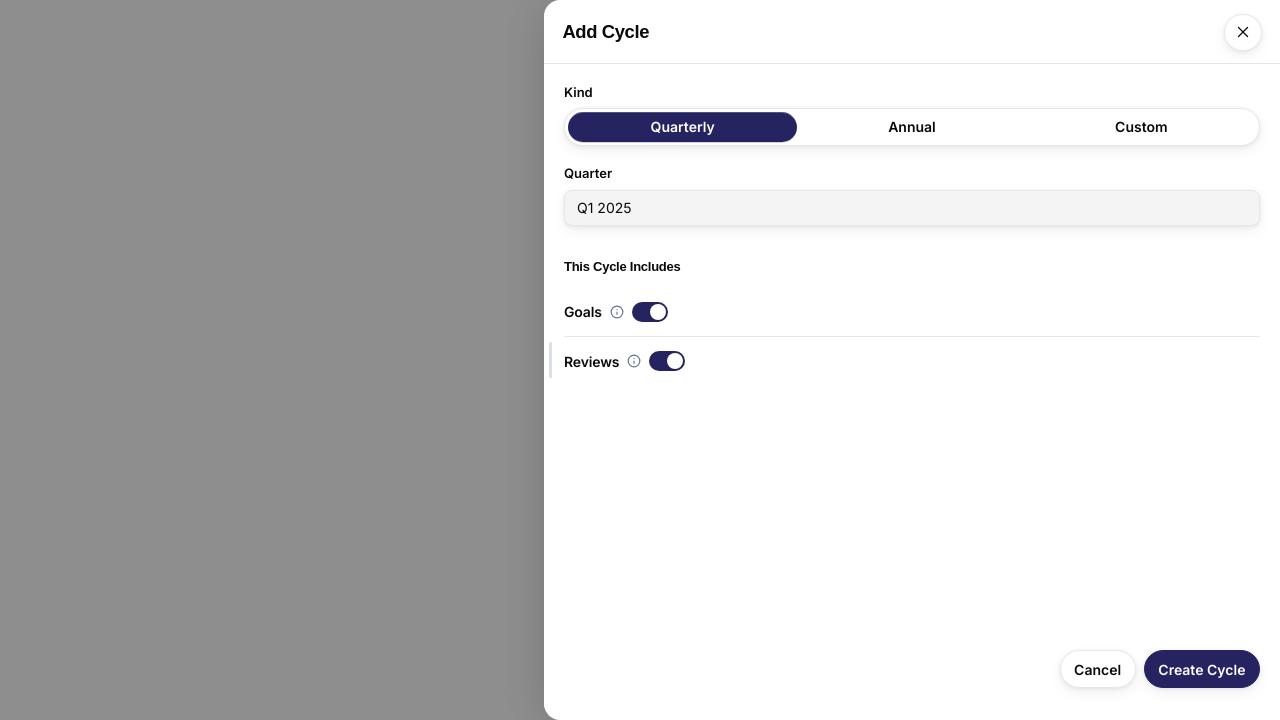
Test: AddReviewCycleModal › does not create a custom cycle when the end is before the start
This screenshot has width=1280, height=720.
Step 1. Click the button "Custom" → x=1141, y=127, box left=1027, top=112, right=1256, bottom=142
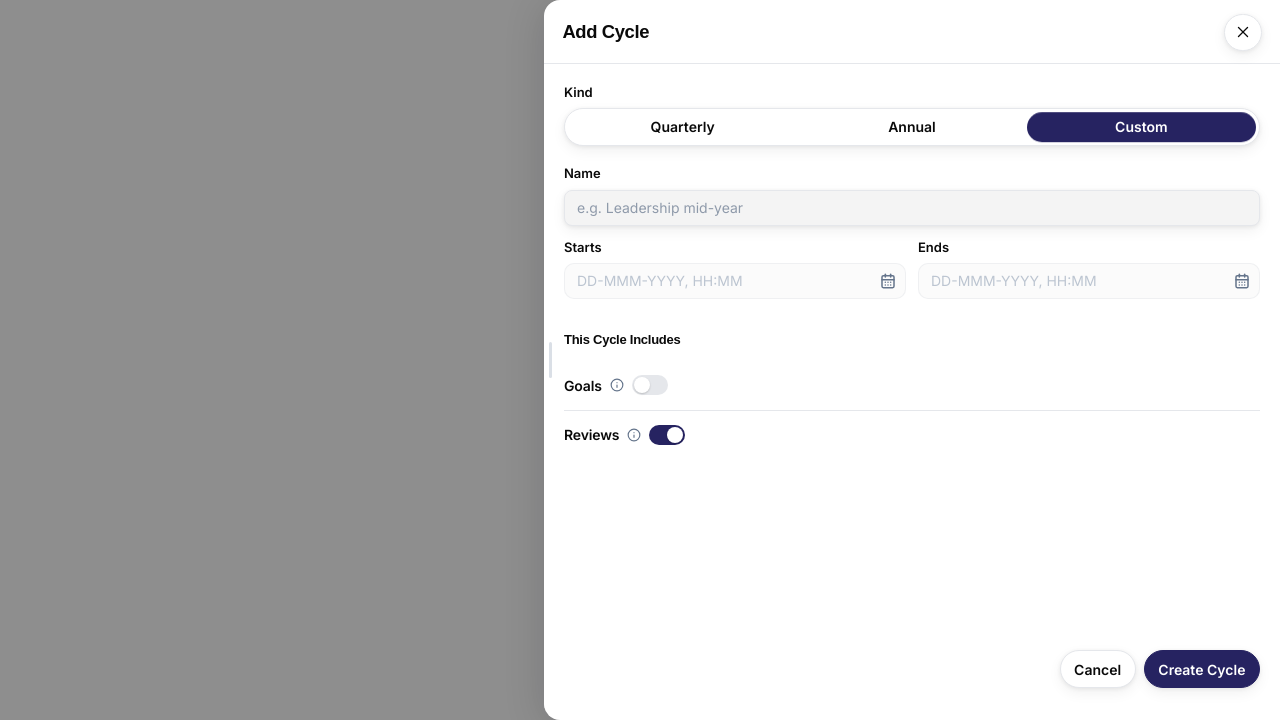
Step 2. Type "2026-08-01T09:00" into the field labelled "Starts" → x=735, y=281, box left=564, top=263, right=906, bottom=299
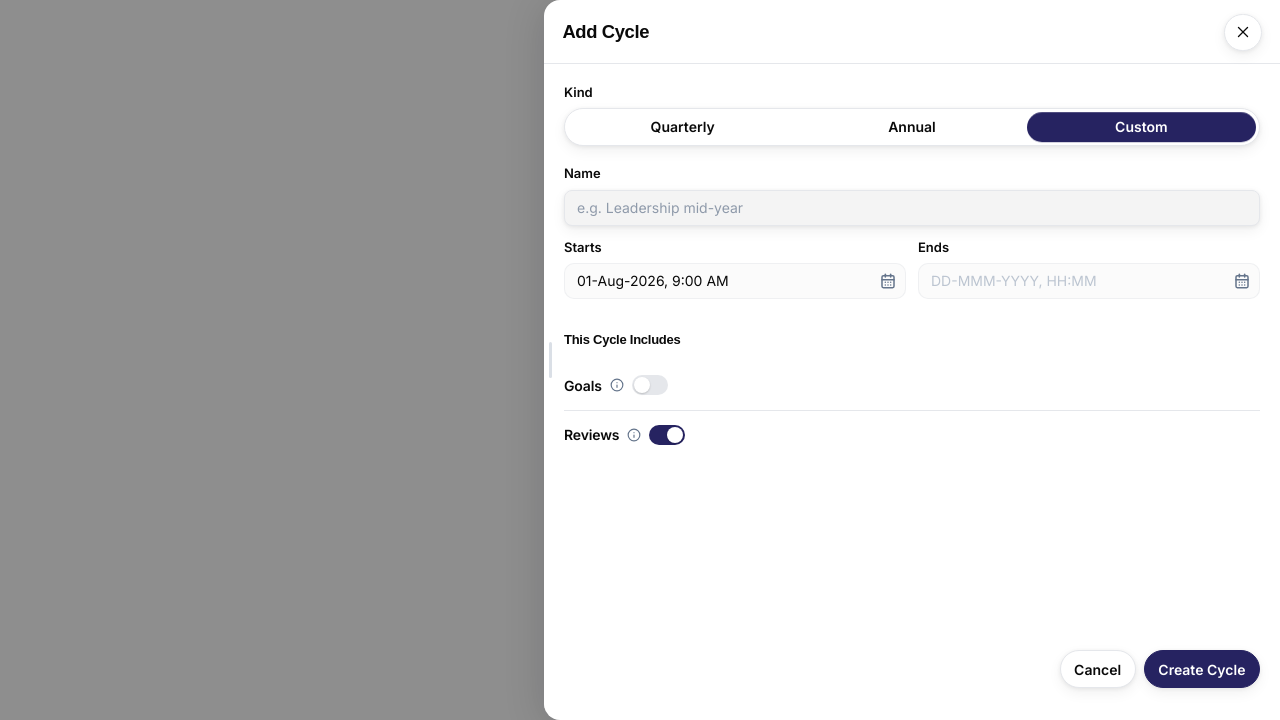
Step 3. Type "2026-07-01T09:00" into the field labelled "Ends" → x=1089, y=281, box left=918, top=263, right=1260, bottom=299
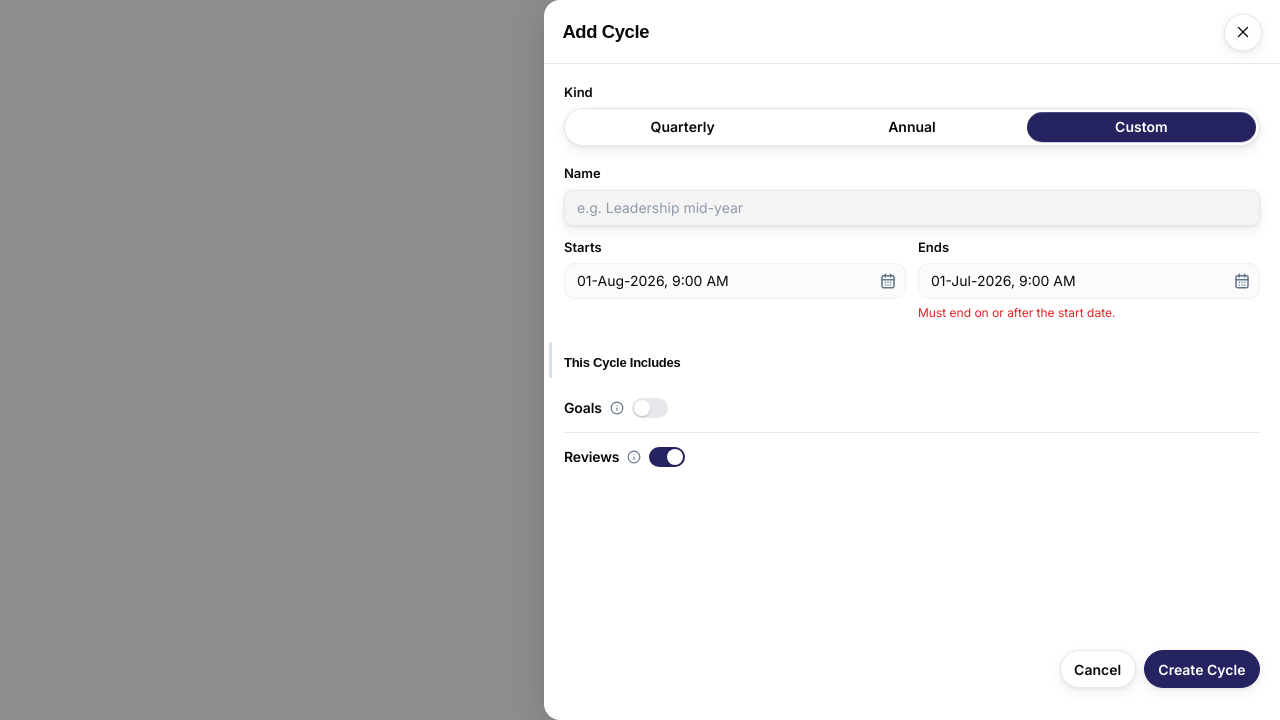
Step 4. Click the button "Create Cycle" → x=1202, y=669, box left=1144, top=650, right=1260, bottom=688
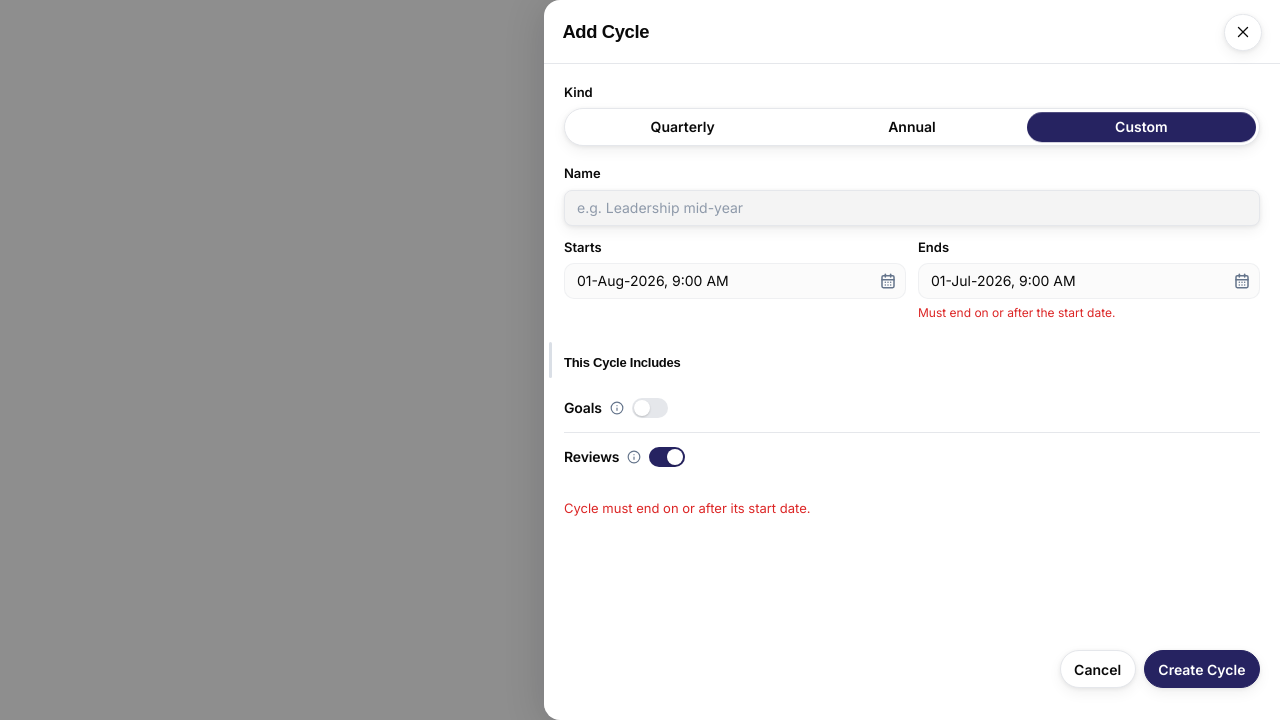
Expected: the text "Cycle must end on or after its start date." is shown, left=564, top=500, right=810, bottom=516
